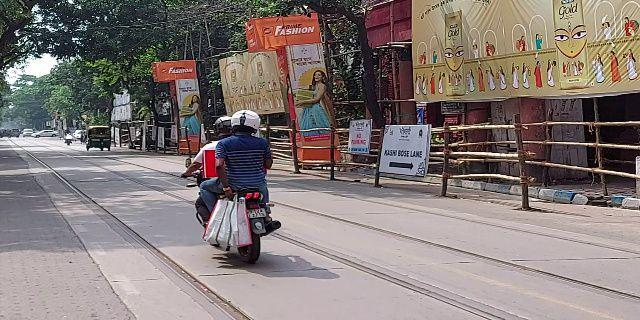Autorickshaw: (81, 123, 116, 154)
Motorbike: (180, 108, 282, 267)
